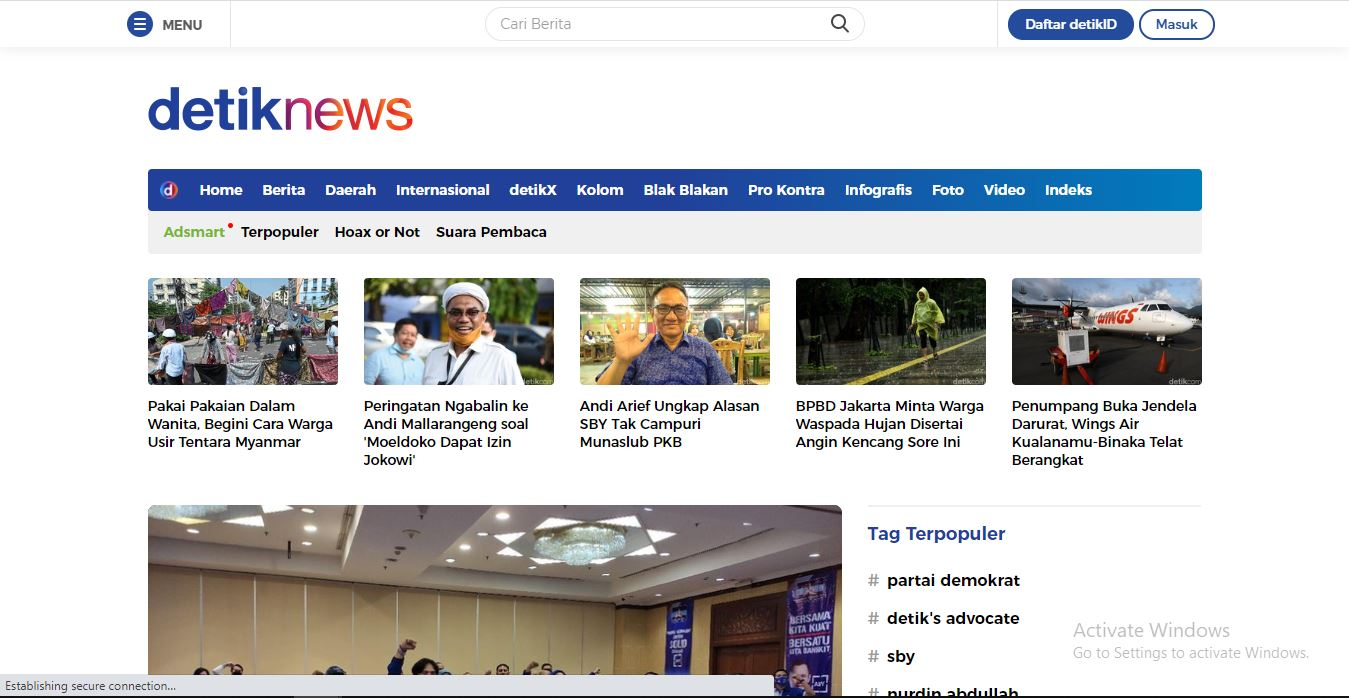Button: (1003, 1, 1138, 47), (1140, 7, 1211, 41)
Image: (144, 507, 846, 698), (133, 64, 428, 152), (368, 279, 555, 389), (147, 279, 337, 387), (1012, 280, 1201, 386), (798, 280, 985, 387), (581, 280, 770, 381)
Menu Bar: (142, 164, 1095, 212), (149, 213, 559, 251)
Nav Bar: (115, 0, 227, 47)
Side Bar: (864, 505, 1207, 698)
Text Field: (491, 1, 828, 43)
